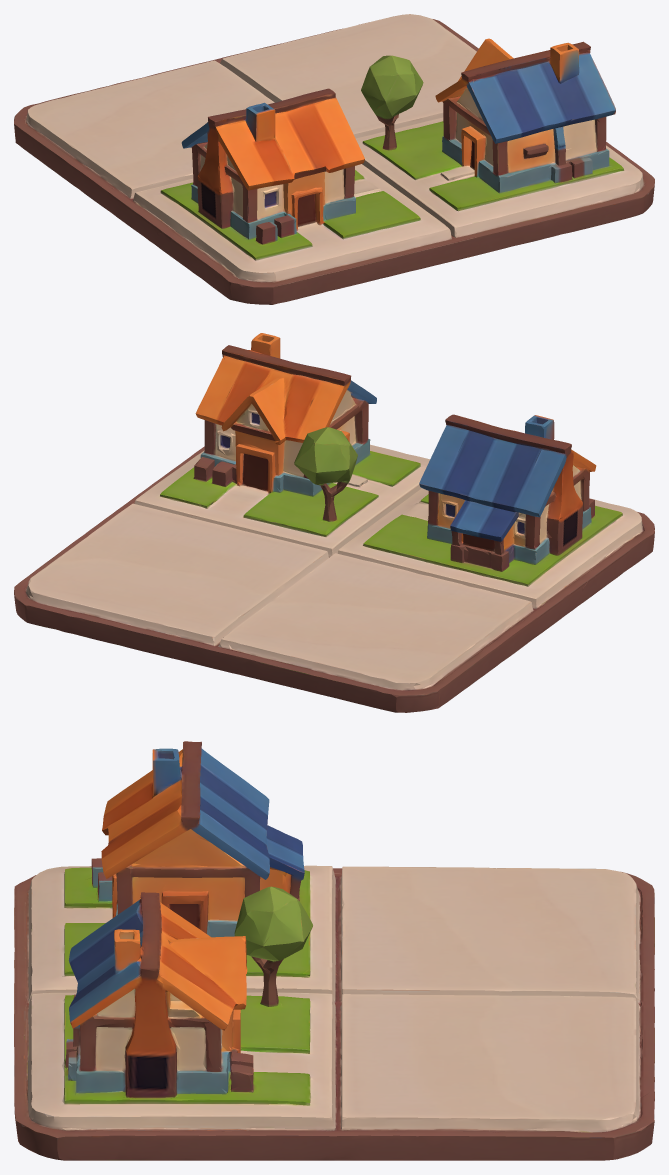
Rendered from residence_01.fbx.
3 views of the same model, one above another, from view 1: azimuth 30°, elevation 25°; view 2: azimuth 150°, elevation 25°; view 3: azimuth 270°, elevation 25° (orthographic). The views are drawn at different scales.
Parts seen in each view (by area): view 1: model; view 2: model; view 3: model.
Boxes of the visible parts, left/top/right/bottom form: model: left=14, top=14, right=654, bottom=304; model: left=14, top=333, right=654, bottom=712; model: left=14, top=741, right=654, bottom=1160.
Size of the model in its own units: 188 by 61.12 by 190.
Materials: 1 (1 with a texture image).
